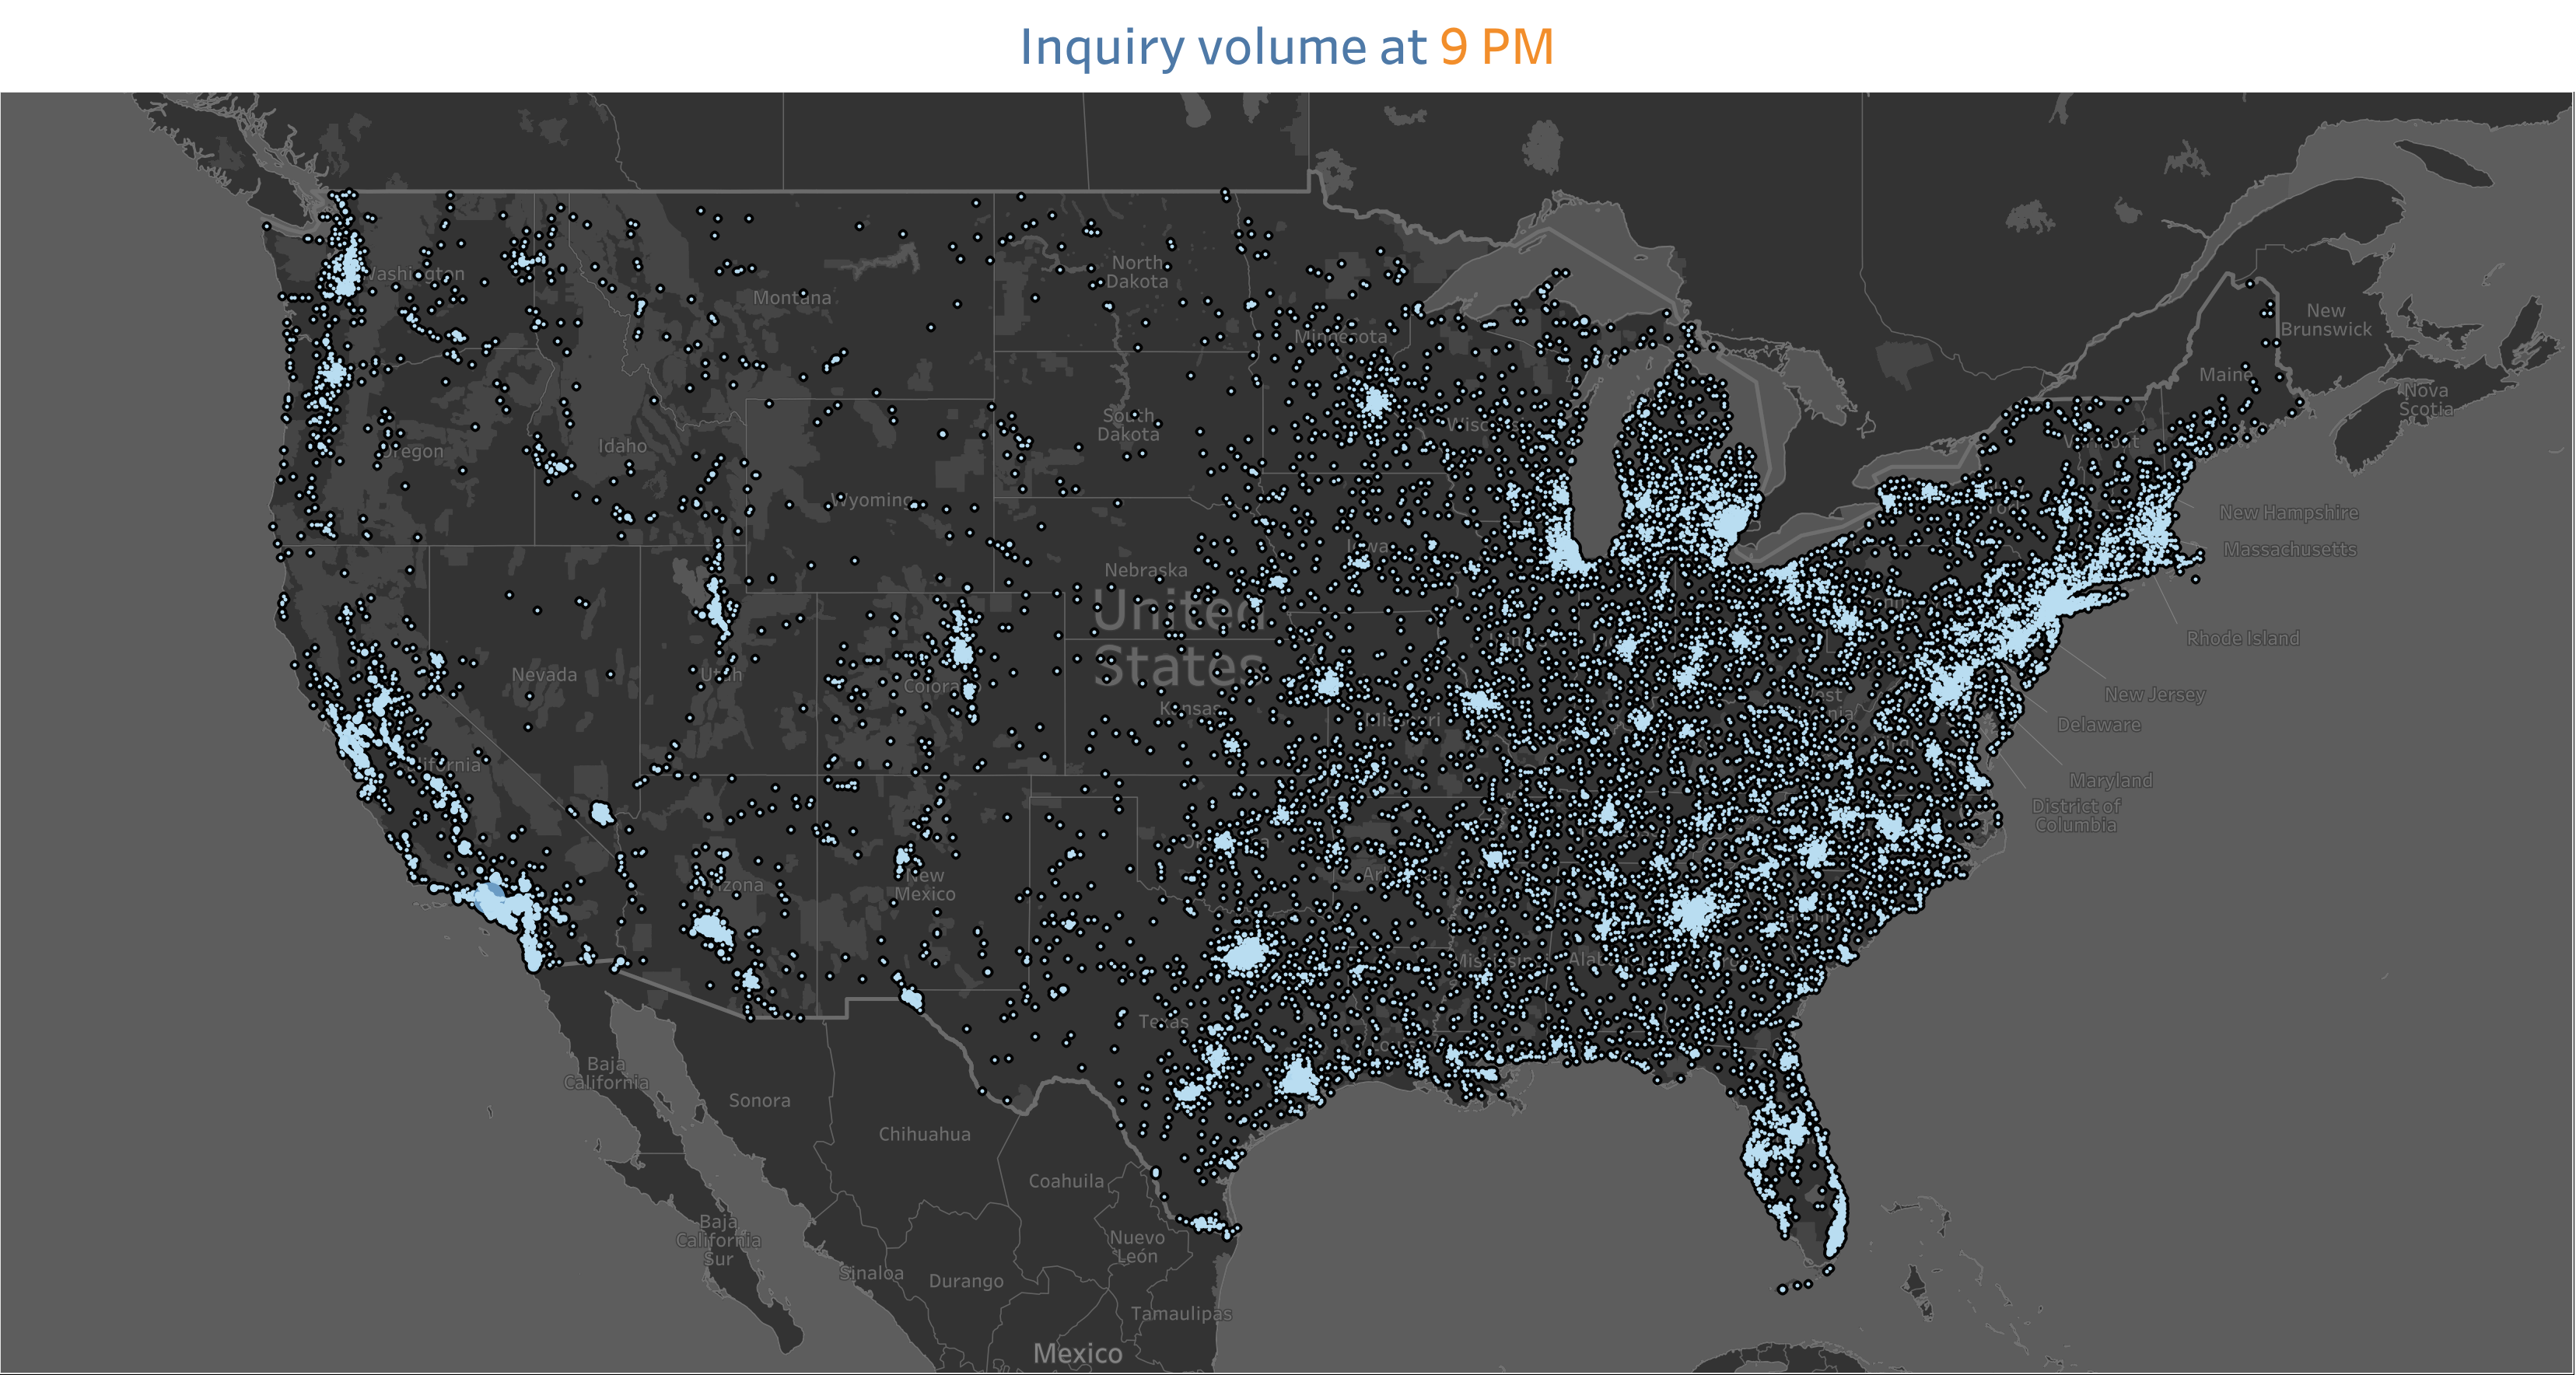

This screenshot's page, from the dashboard's own definition file:
{"tool":"tableau","page":{"name":"Dashboard 1","canvas":[1000,1000],"units":"permille","ordinal":0},"visuals":[{"type":"worksheet","title":"Sheet 1","mark":"Automatic","box":[4.7,8.8,990.6,982.3]},{"type":"currpage","title":"Sheet 1","box":[883,30.9,87.8,105]}]}

Visuals, with their boxes on the dashboard's canvas, which has no fixed pixel size, in thousandths of its width and height (x1, y1, x2, y2). These are canvas units, not pixel positions in the 2576x1375 screenshot, which may show the page scaled, cropped or inside an application window:
"Sheet 1" worksheet: <bbox>5, 9, 995, 991</bbox>
"Sheet 1" currpage: <bbox>883, 31, 971, 136</bbox>
